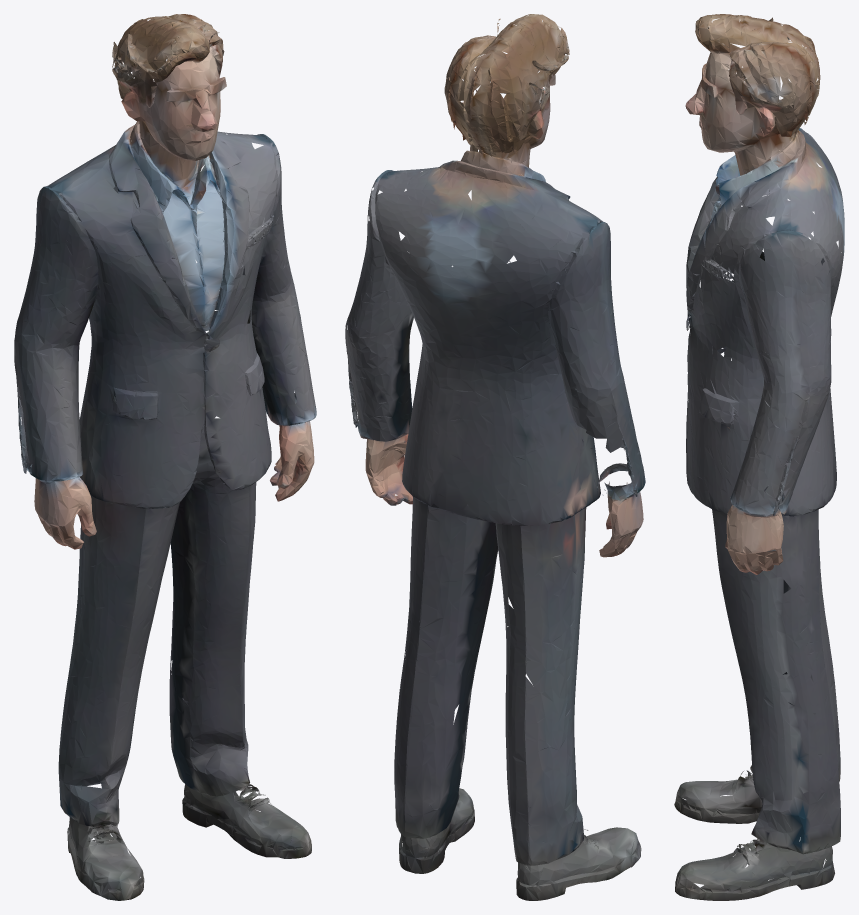
Rendered from thiel.glb.
3 views of the same model, side by side, from view 1: azimuth 30°, elevation 25°; view 2: azimuth 150°, elevation 25°; view 3: azimuth 270°, elevation 25° (orthographic).
Bounding box in the file's own units: 0.6427 × 1.8 × 0.3349.
